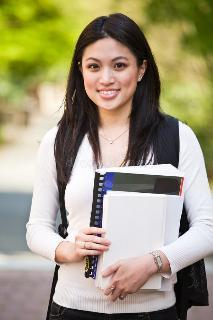person - v3 P: (27, 14, 177, 319)
